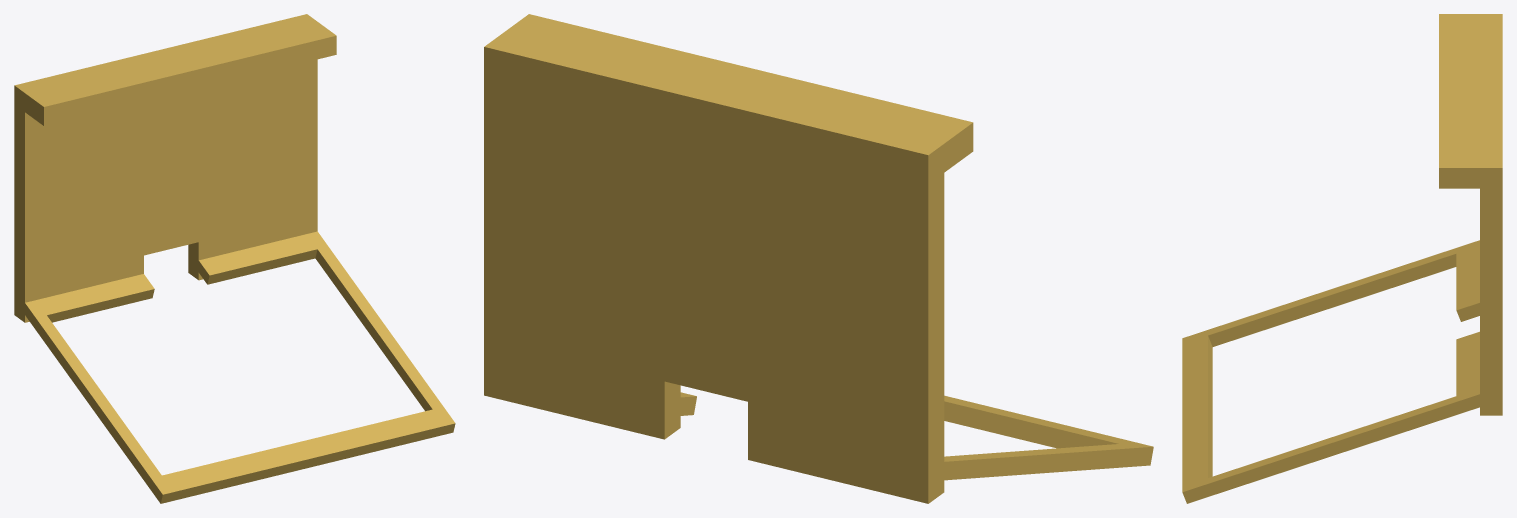
The model's file is ep5-phone-stand.glb.
3 views of the same model, side by side, from view 1: azimuth 30°, elevation 25°; view 2: azimuth 150°, elevation 25°; view 3: azimuth 270°, elevation 25° (orthographic). The views are drawn at different scales.
Parts seen in each view (by area): view 1: world; view 2: world; view 3: world.
Boxes of the visible parts, x1,y1,x2,y2 form: world: (14,14,455,503); world: (484,14,1153,503); world: (1182,14,1502,503).
Size of the model in its own units: 80 by 81.35 by 70.29.
